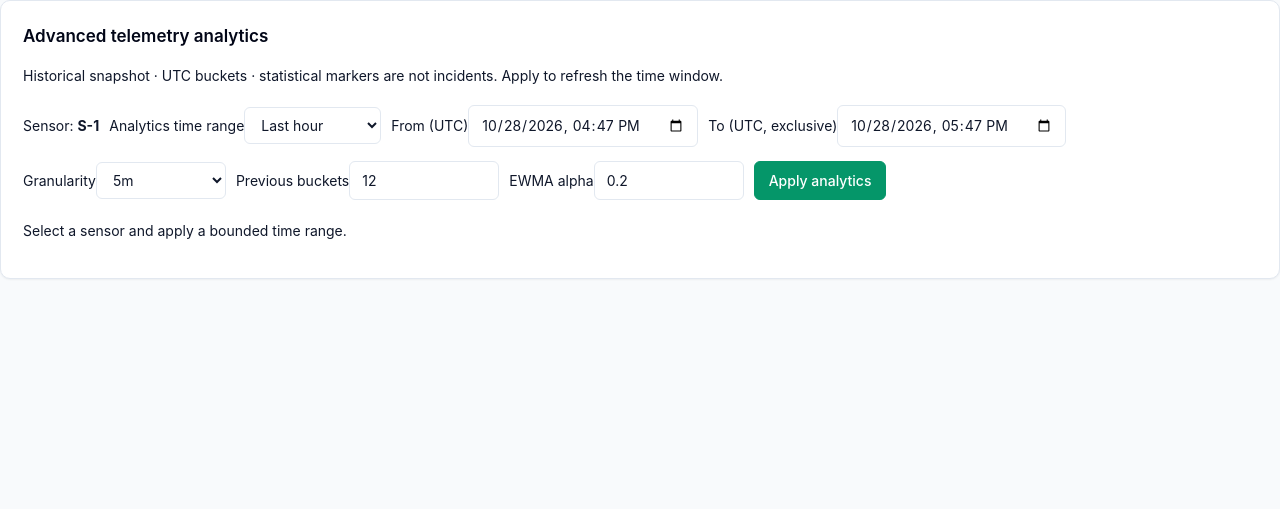
advanced analytics UI › does not fetch analytics until requested; sends bounded UTC range and handles empty data
Click the button "Apply analytics" at (820, 181), box [754,161,886,200]
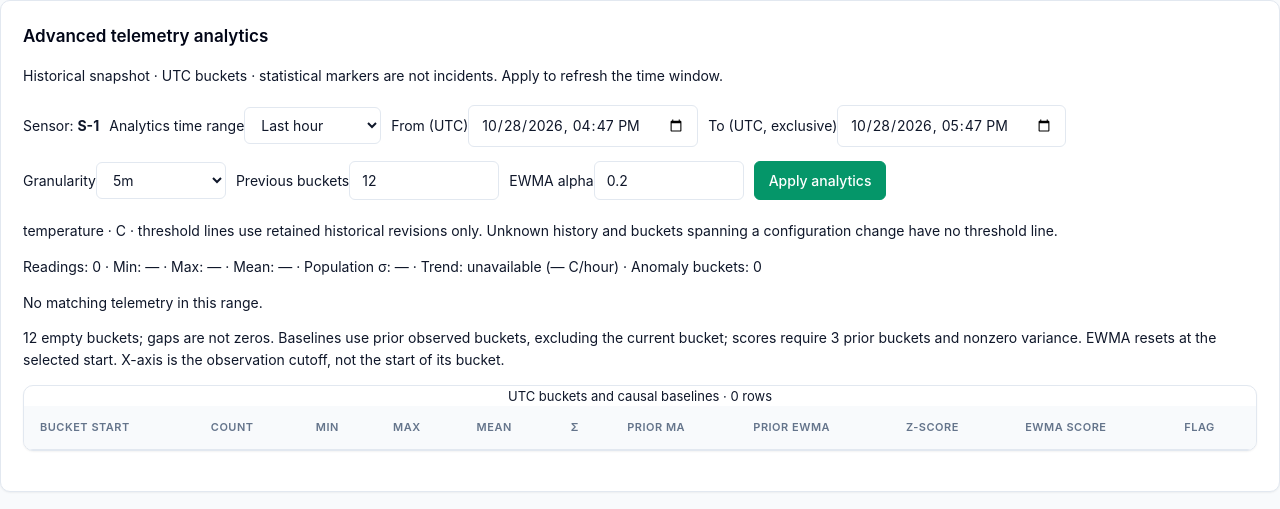
expect the text "No matching telemetry in this range." is shown: met, box [23,294,263,311]
